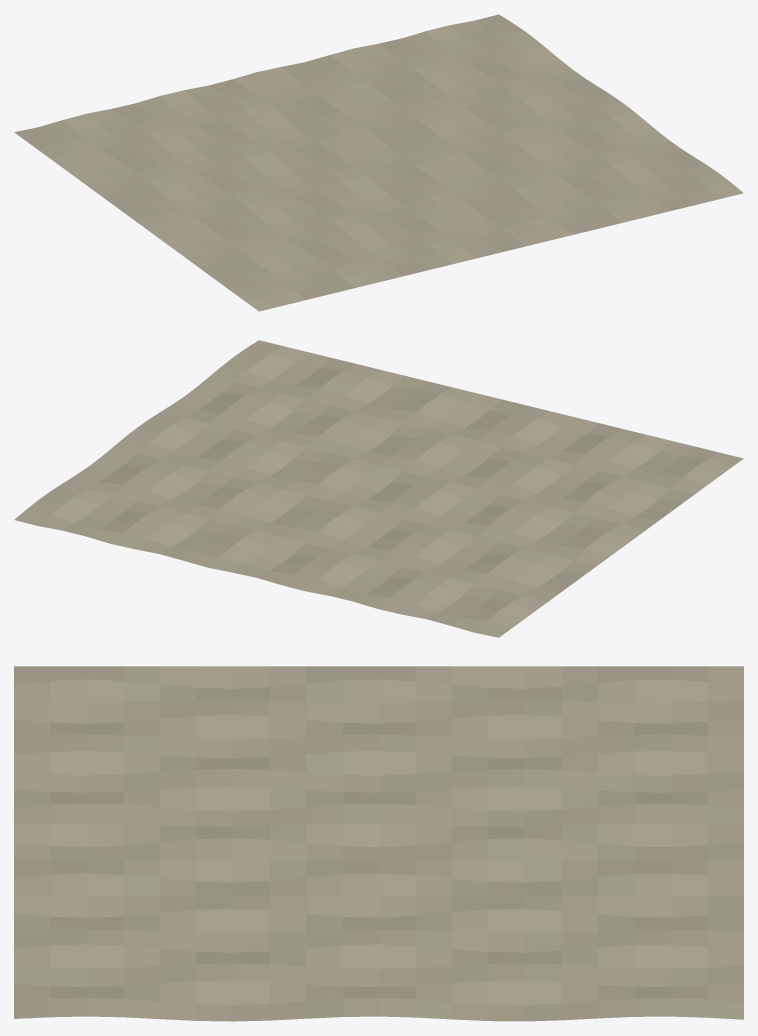
Rendered from keepsake_cloth.glb.
The picture shows the model from 3 angles, top to bottom: view 1: azimuth 30°, elevation 25°; view 2: azimuth 150°, elevation 25°; view 3: azimuth 270°, elevation 25°; orthographic projection. The views are drawn at different scales.
Parts seen in each view (by area): view 1: KeepsakeCloth; view 2: KeepsakeCloth; view 3: KeepsakeCloth.
Boxes of the visible parts, x1,y1,x2,y2 form: KeepsakeCloth: (14,14,743,311); KeepsakeCloth: (14,340,743,637); KeepsakeCloth: (14,666,743,1021).
Size of the model in its own units: 0.24 by 0.00299 by 0.21.
